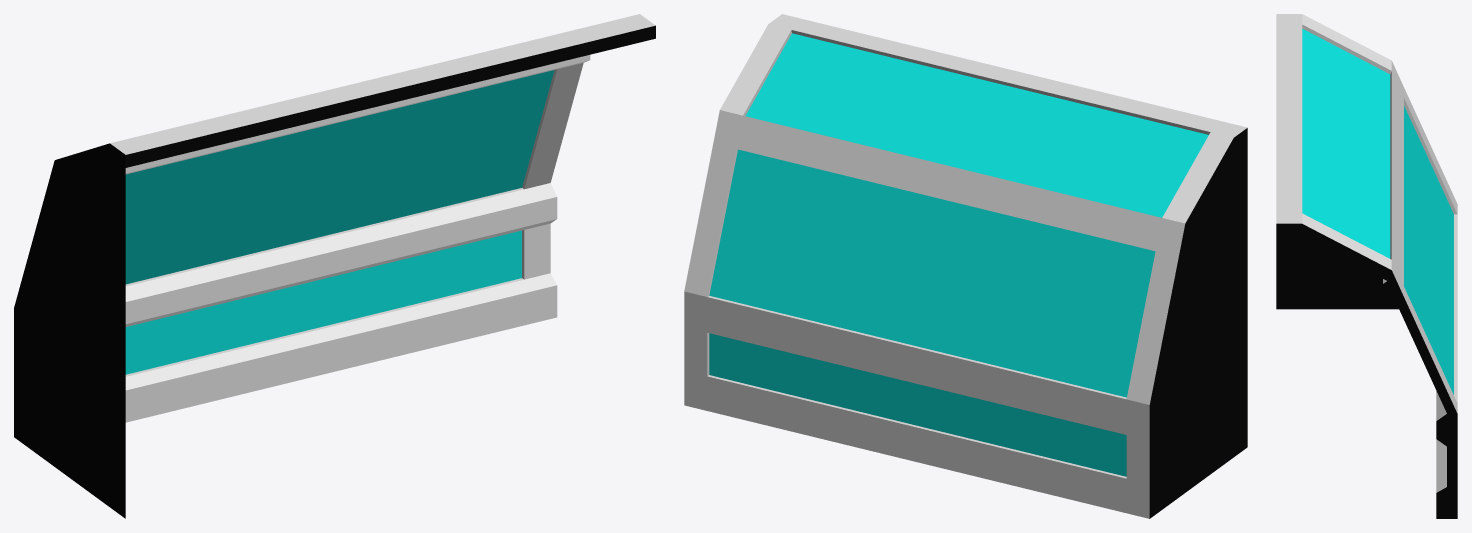
The model's file is CommandRoomGlass.fbx.
The picture shows the model from 3 angles, left to right: view 1: azimuth 30°, elevation 25°; view 2: azimuth 150°, elevation 25°; view 3: azimuth 270°, elevation 25°; orthographic projection. The views are drawn at different scales.
Parts seen in each view (by area): view 1: Cube.035, Cube.036; view 2: Cube.036, Cube.035; view 3: Cube.036, Cube.035.
Part boxes in pixels (x1,y1,x2,y2): Cube.035: (14, 14, 655, 518); Cube.036: (125, 70, 554, 374); Cube.036: (709, 33, 1208, 476); Cube.035: (684, 14, 1247, 518); Cube.036: (1302, 29, 1453, 394); Cube.035: (1276, 14, 1457, 518).
Bounding box in the file's own units: 1967 × 717 × 1290.
